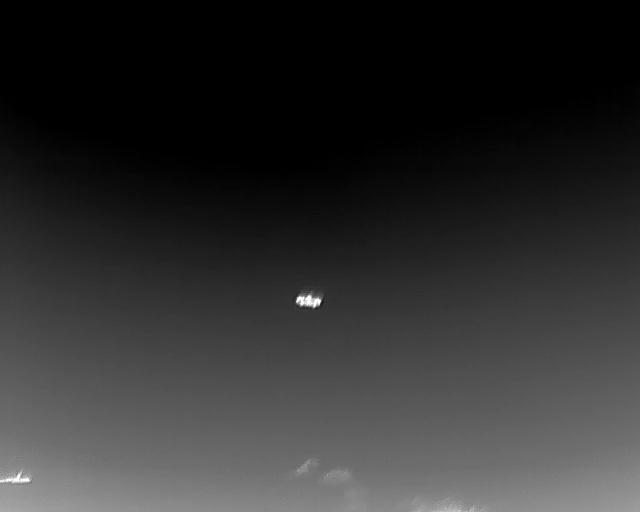fpv-drone: (295, 289, 323, 309)
